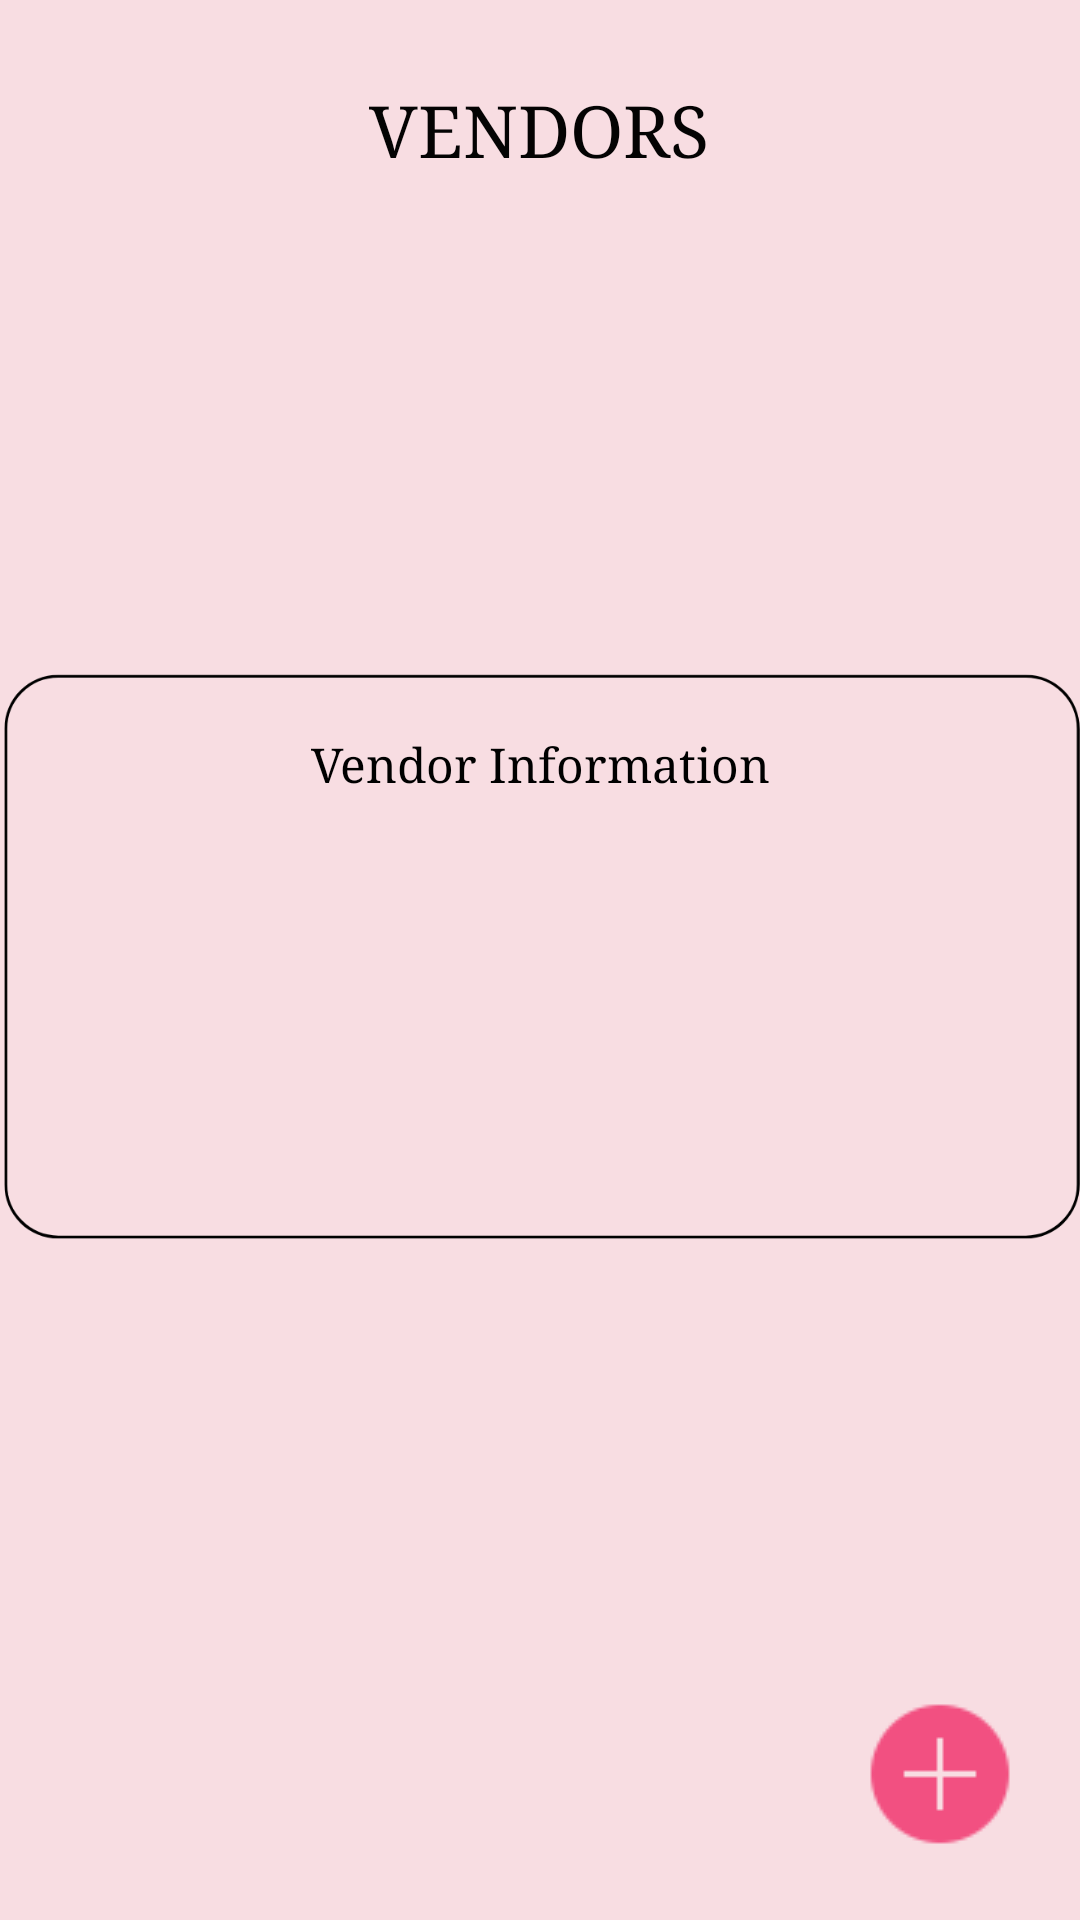

Screen size 1080 × 1920. Icon name, then its center in pixels as [x,y]:
plus: [940,1774]
